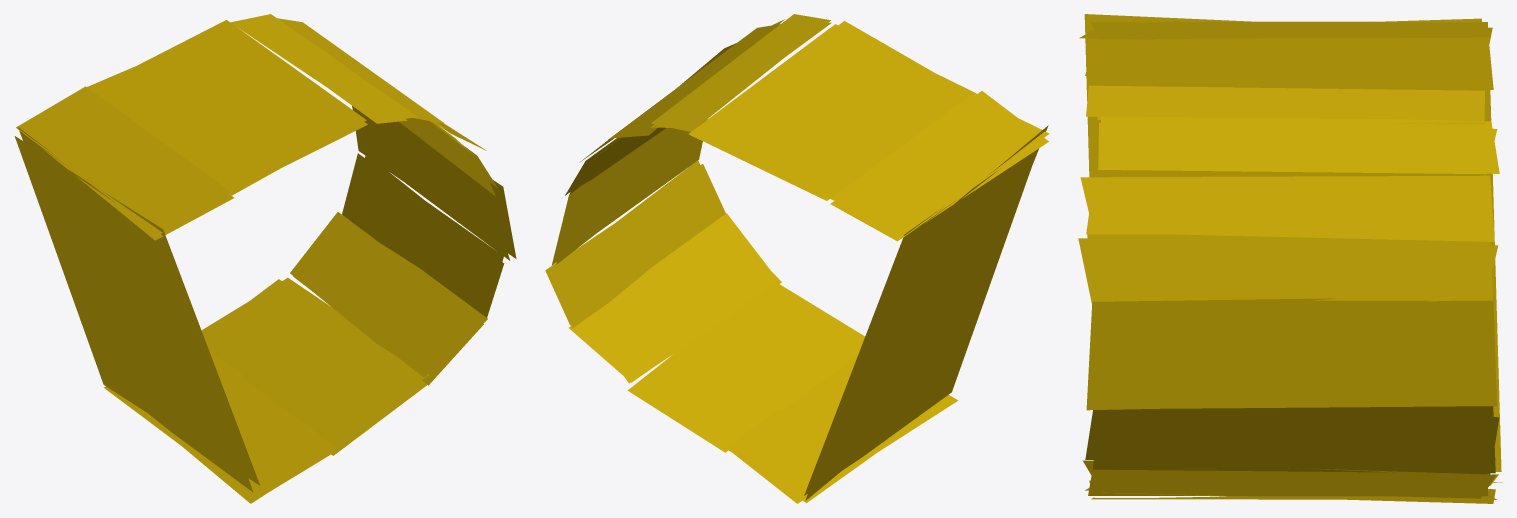
The model's file is original_14.obj.
3 renders of one model, left to right at view 1: azimuth 30°, elevation 25°; view 2: azimuth 150°, elevation 25°; view 3: azimuth 270°, elevation 25°, orthographic. The views are drawn at different scales.
Visible parts, largest first — view 1: #ID94; view 2: #ID94; view 3: #ID94.
Part boxes in pixels (left/top/right/bottom): #ID94: left=14, top=14, right=516, bottom=503; #ID94: left=545, top=14, right=1049, bottom=503; #ID94: left=1078, top=14, right=1502, bottom=503.
Bounding box in the file's own units: 0.0083 × 0.00779 × 0.00621.
